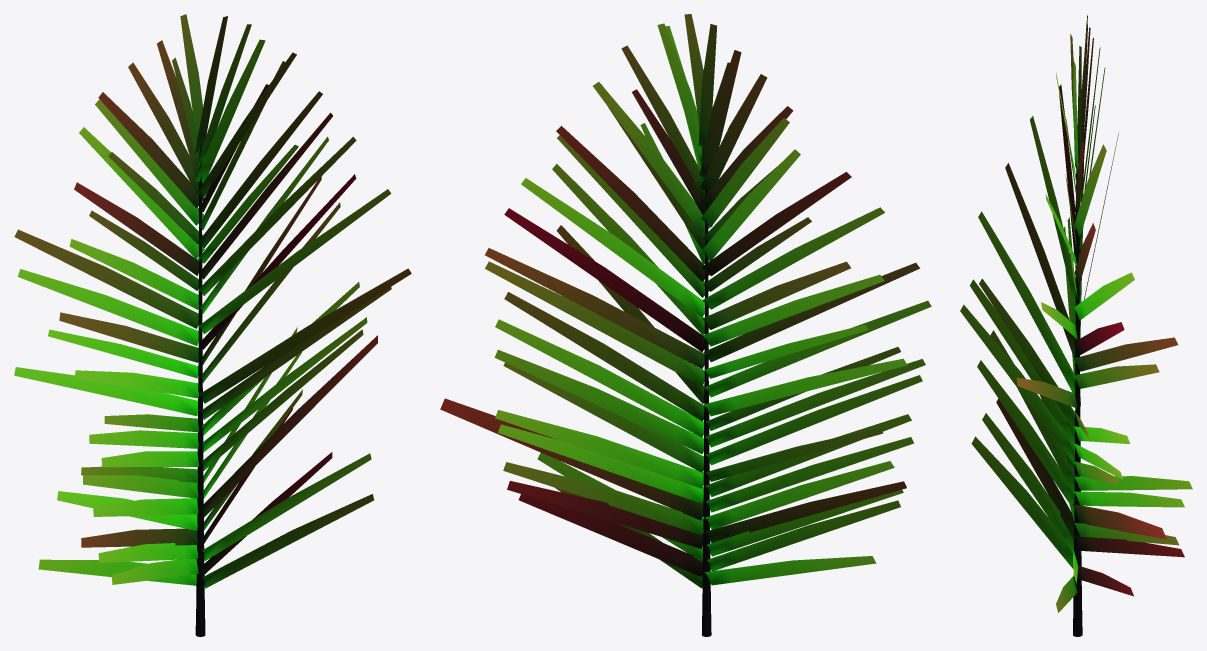
The model's file is Leafmap_Palm_2.fbx.
The picture shows the model from 3 angles, left to right: view 1: azimuth 30°, elevation 25°; view 2: azimuth 150°, elevation 25°; view 3: azimuth 270°, elevation 25°; orthographic projection.
Visible parts, largest first — view 1: Leafmap_Palm_2; view 2: Leafmap_Palm_2; view 3: Leafmap_Palm_2.
Boxes of the visible parts, <box> form: Leafmap_Palm_2: <box>14,14,411,636</box>; Leafmap_Palm_2: <box>440,14,931,636</box>; Leafmap_Palm_2: <box>960,15,1192,636</box>.
Bounding box in the file's own units: 917 × 1303 × 448.
